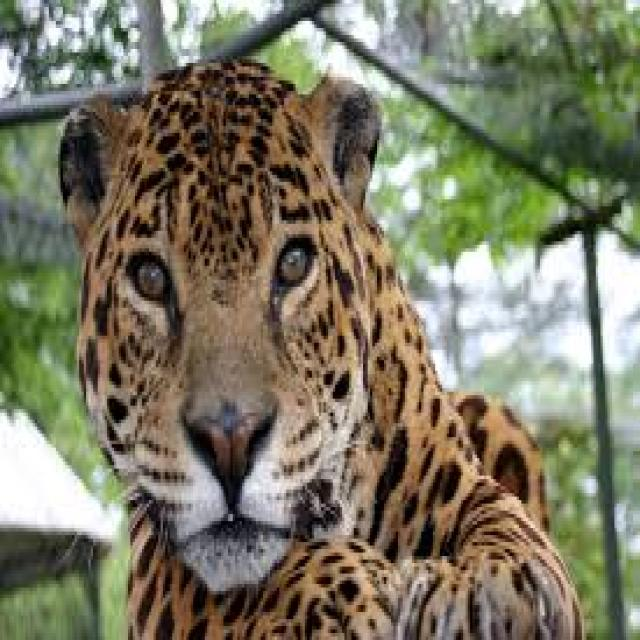Jaguar: (42, 45, 591, 640)
